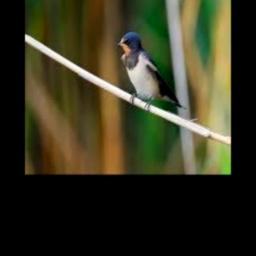Swallow: (115, 32, 186, 111)
